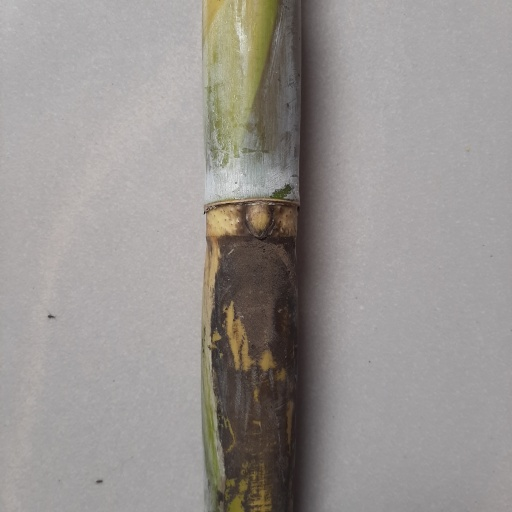Bud: (243, 203, 275, 240)
